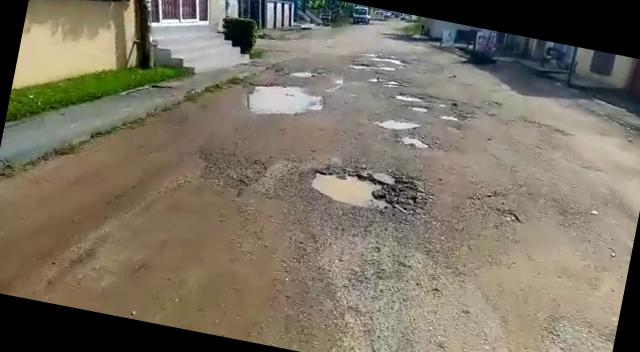pothole: (302, 158, 420, 218), (245, 74, 327, 124), (373, 112, 420, 134), (396, 132, 438, 152), (368, 72, 412, 90), (387, 89, 429, 104), (288, 68, 314, 80), (438, 113, 459, 123), (408, 104, 428, 114)
